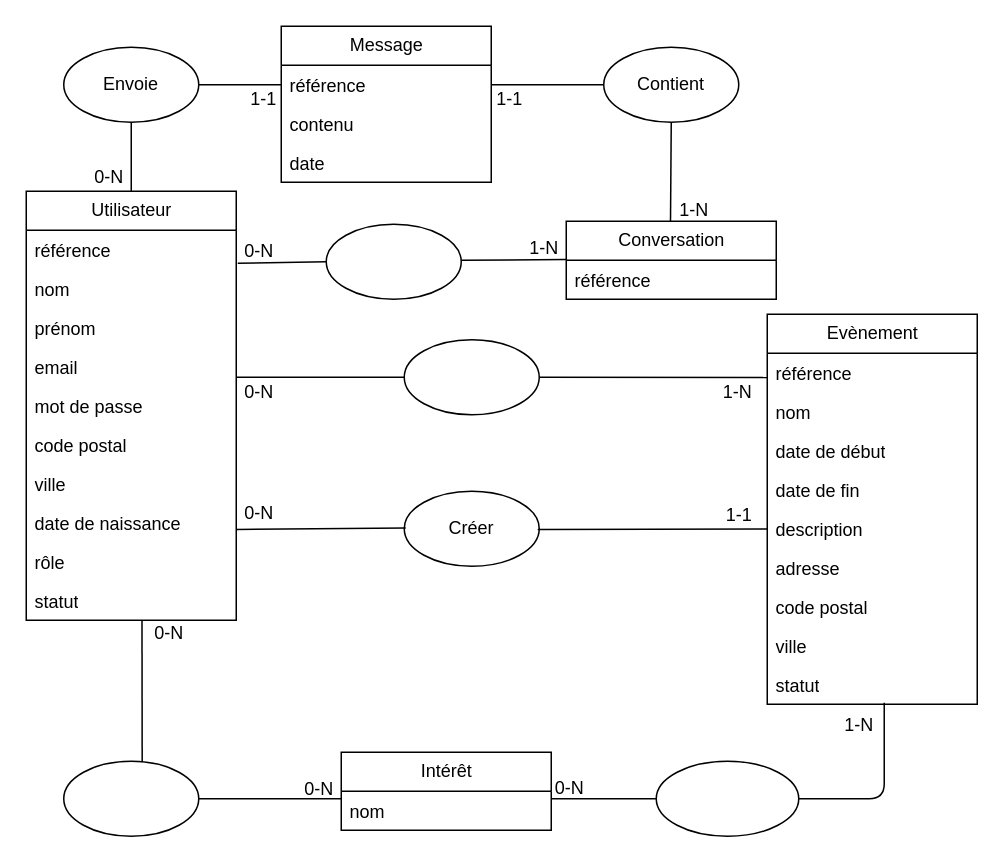
Image size: 1004x863. Some labels were removed from this diagram. The centre of each missing label's shape, as x and y in pixels:
"Aime" belongs at (x=130, y=798).
"Concerne" belongs at (x=393, y=261).
"Possède" belongs at (x=727, y=798).
"S'incrit" belongs at (x=471, y=376).
